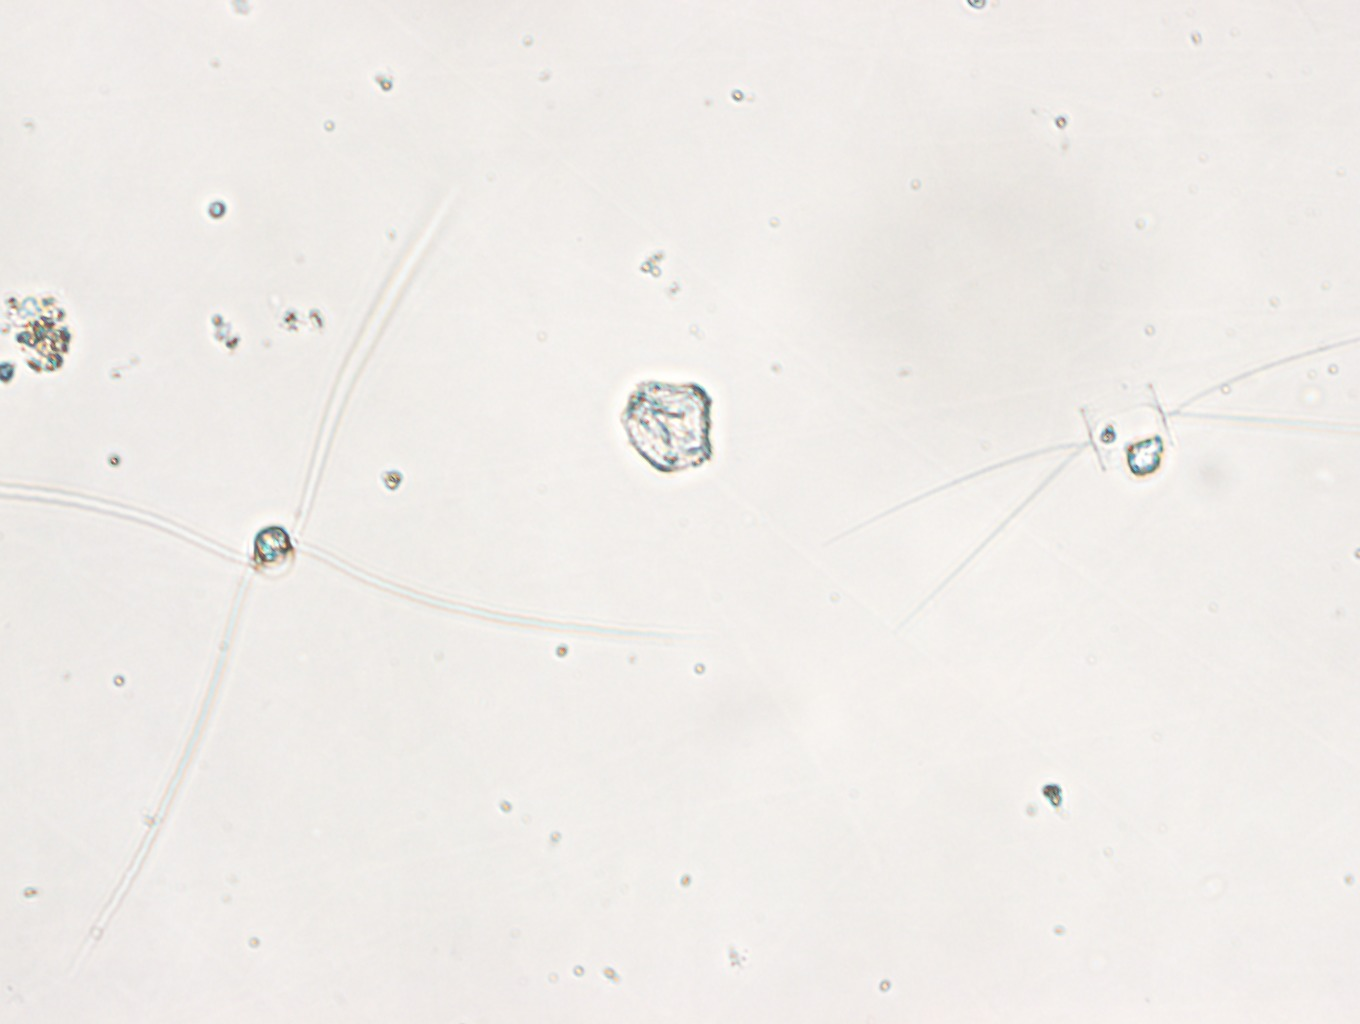chaetoceros: (1, 185, 710, 964), (839, 341, 1360, 627)
